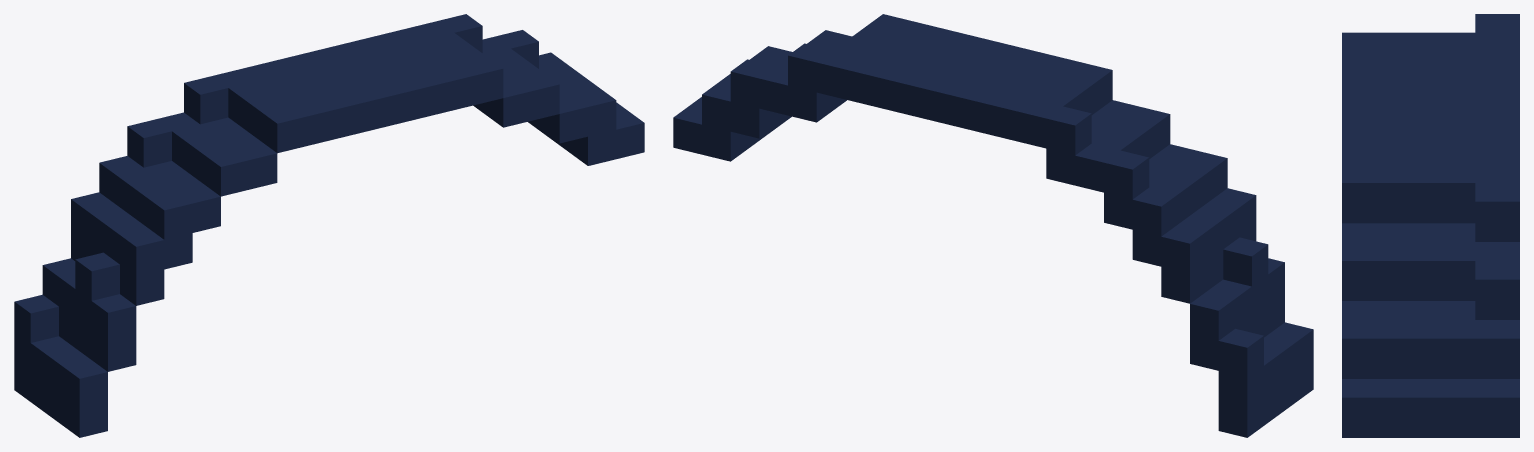
The model's file is touring_bike_rear_mudguard.glb.
The picture shows the model from 3 angles, left to right: view 1: azimuth 30°, elevation 25°; view 2: azimuth 150°, elevation 25°; view 3: azimuth 270°, elevation 25°; orthographic projection. The views are drawn at different scales.
Parts seen in each view (by area): view 1: body:compound; view 2: body:compound; view 3: body:compound.
Part boxes in pixels (box(x1,y1,x2,y2)): body:compound: box(14, 14, 644, 437); body:compound: box(673, 14, 1313, 437); body:compound: box(1342, 14, 1519, 437).
Bounding box in the file's own units: 0.625 × 0.2812 × 0.125.
